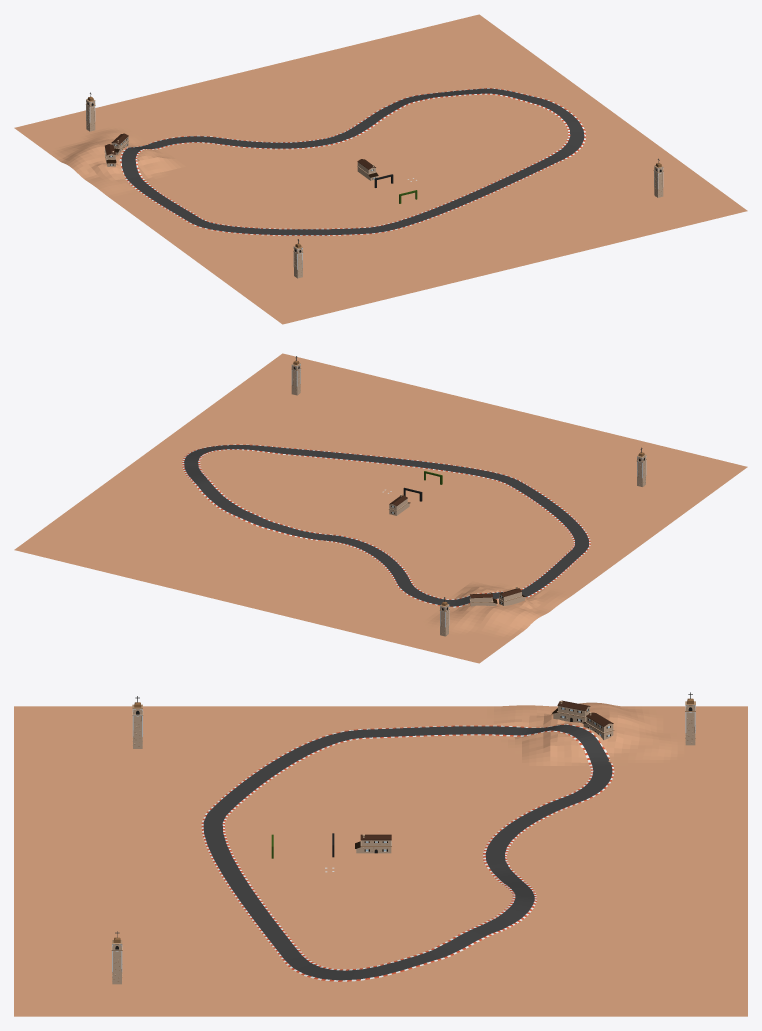
Rendered from town-track.gltf.
The picture shows the model from 3 angles, top to bottom: view 1: azimuth 30°, elevation 25°; view 2: azimuth 150°, elevation 25°; view 3: azimuth 270°, elevation 25°; orthographic projection. The views are drawn at different scales.
Parts seen in each view (by area): view 1: ground, road; view 2: ground, road; view 3: ground, road, house, house.002, house.001.
Part boxes in pixels (x1=…): ground: x1=14, y1=14, x2=747, y2=324; road: x1=119, y1=88, x2=585, y2=235; ground: x1=14, y1=353, x2=747, y2=663; road: x1=182, y1=444, x2=590, y2=607; ground: x1=14, y1=702, x2=747, y2=1016; road: x1=201, y1=724, x2=614, y2=981; house: x1=355, y1=834, x2=391, y2=853; house.002: x1=552, y1=700, x2=590, y2=723; house.001: x1=583, y1=712, x2=614, y2=739.
Size of the model in its own units: 701 by 97.17 by 700.
Materials: 2 (2 with a texture image).
